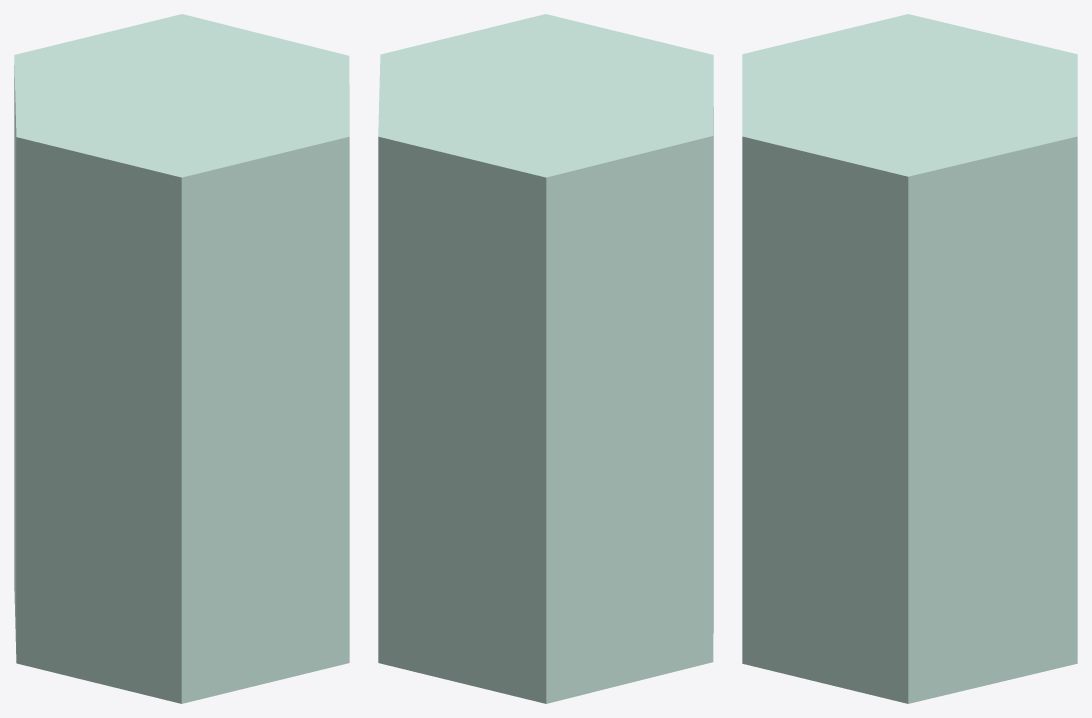
3 renders of one model, left to right at view 1: azimuth 30°, elevation 25°; view 2: azimuth 150°, elevation 25°; view 3: azimuth 270°, elevation 25°, orthographic.
Parts seen in each view (by area): view 1: Renderer Node; view 2: Renderer Node; view 3: Renderer Node.
Boxes of the visible parts, x1,y1,x2,y2 form: Renderer Node: [14, 14, 349, 703]; Renderer Node: [378, 14, 713, 703]; Renderer Node: [742, 14, 1077, 703].
Size of the model in its own units: 0.4034 by 0.6094 by 0.3516.
